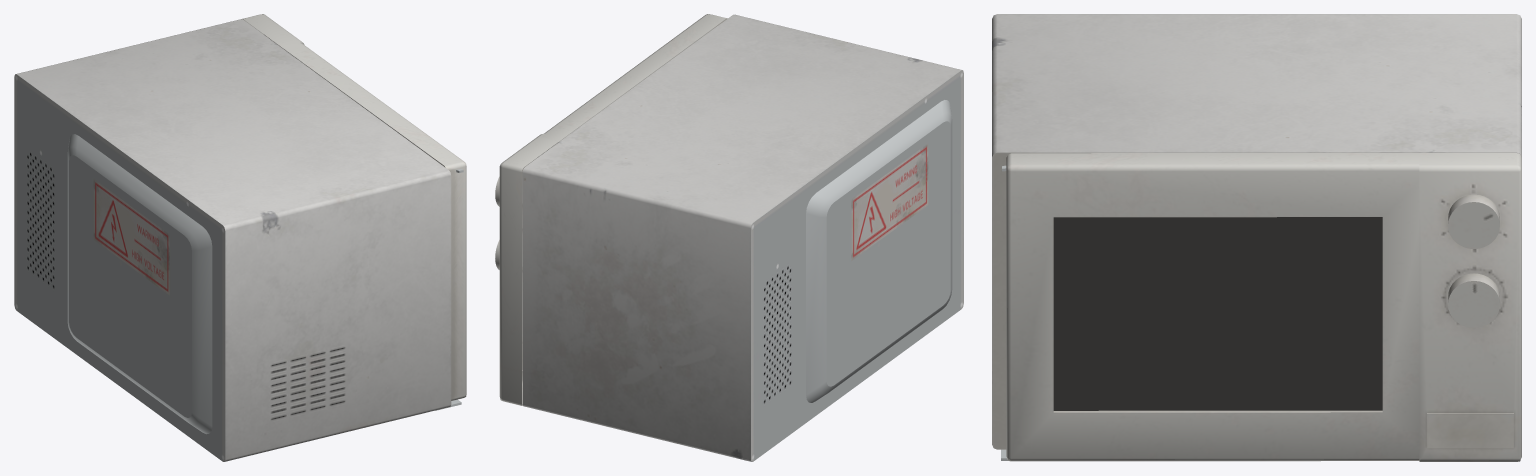
The model's file is microwave.glb.
3 views of the same model, side by side, from view 1: azimuth 30°, elevation 25°; view 2: azimuth 150°, elevation 25°; view 3: azimuth 270°, elevation 25° (orthographic). The views are drawn at different scales.
Visible parts, largest first — view 1: body, door; view 2: body, door; view 3: door, body.
Part boxes in pixels (box(x1,y1,x2,y2)): body: box(14, 14, 463, 461); door: box(277, 40, 466, 400); body: box(495, 14, 963, 461); door: box(537, 14, 727, 157); door: box(1006, 153, 1429, 461); body: box(992, 14, 1521, 461).
Bounding box in the file's own units: 0.3105 × 0.2632 × 0.4169.
1 material, 1 textured.
